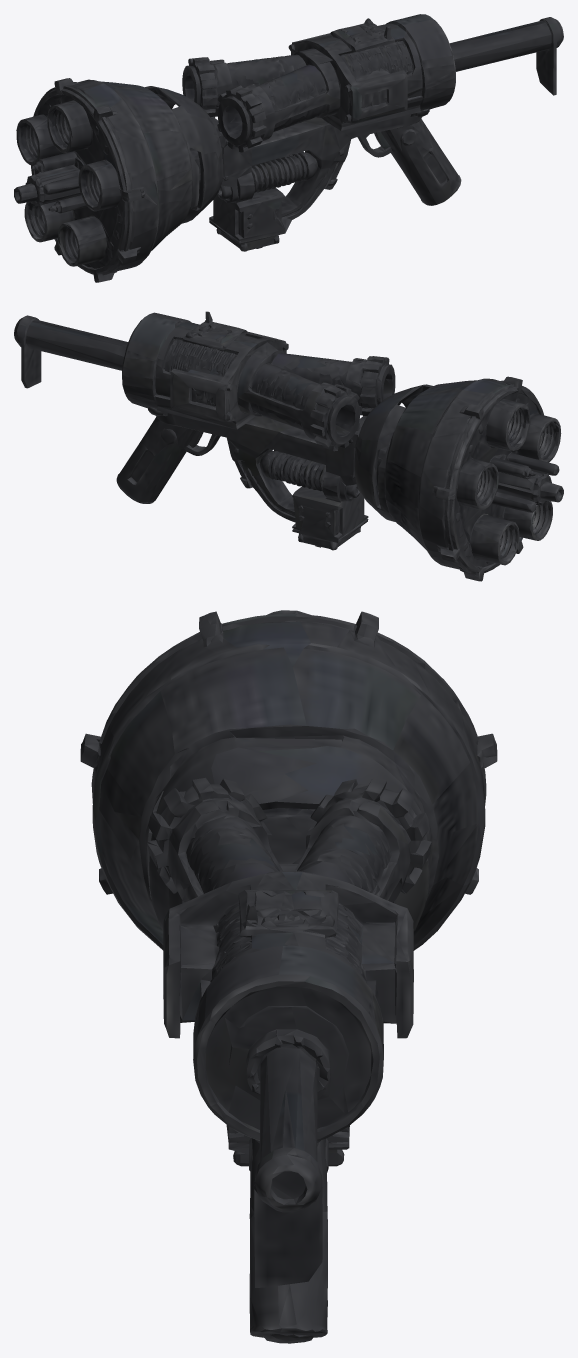
File: minigun.glb
The picture shows the model from 3 angles, top to bottom: view 1: azimuth 30°, elevation 25°; view 2: azimuth 150°, elevation 25°; view 3: azimuth 270°, elevation 25°; orthographic projection. The views are drawn at different scales.
Size of the model in its own units: 1.9 by 0.6537 by 0.6336.
1 material, 1 textured.
